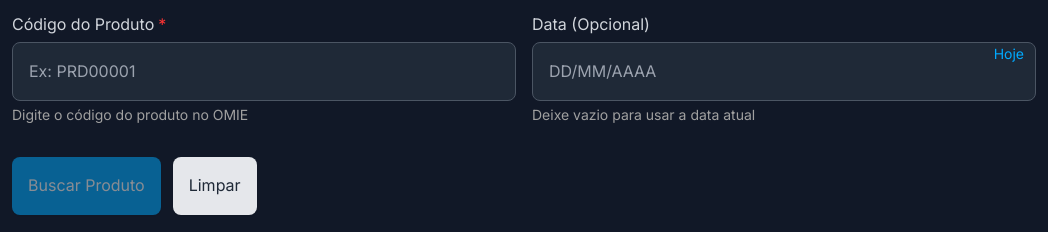
Test: ProductSearch Component › should clear form when clear button is clicked
Note: Fill form
Type "PRD001" into the field labelled "Código do Produto*" at point(264, 71), box [12,42,516,101]
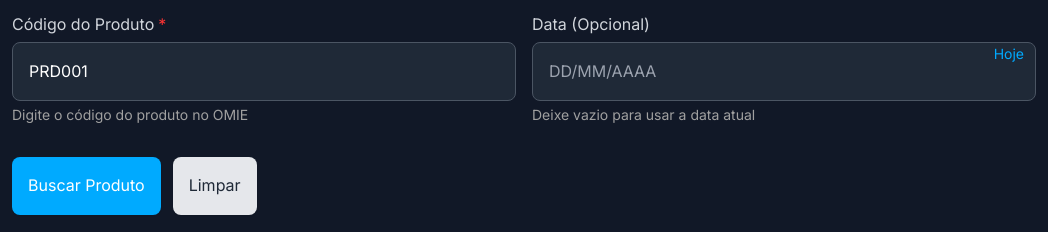
Type "25/12/2023" into the field labelled "Data (Opcional)" at point(784, 71), box [532,42,1036,101]
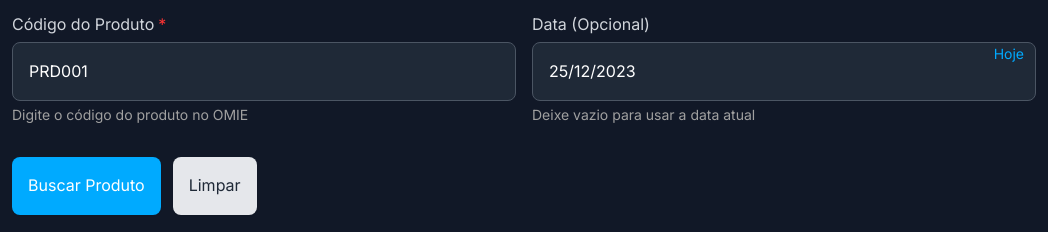
Note: Clear form
Click the button "Limpar" at point(215, 186), box [173,157,257,215]
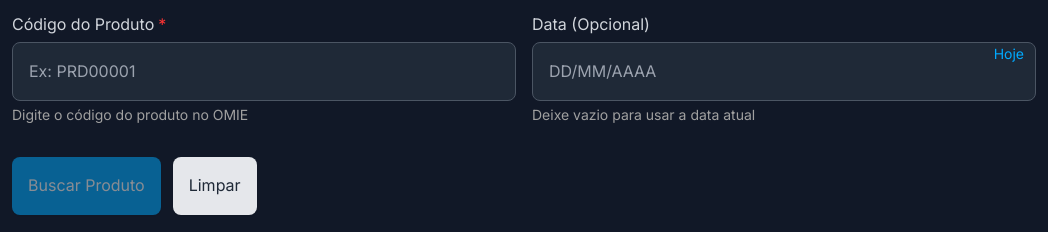
Expected: the field labelled "Código do Produto*" is empty, [12,42,516,101]
Expected: the field labelled "Data (Opcional)" is empty, [532,42,1036,101]
